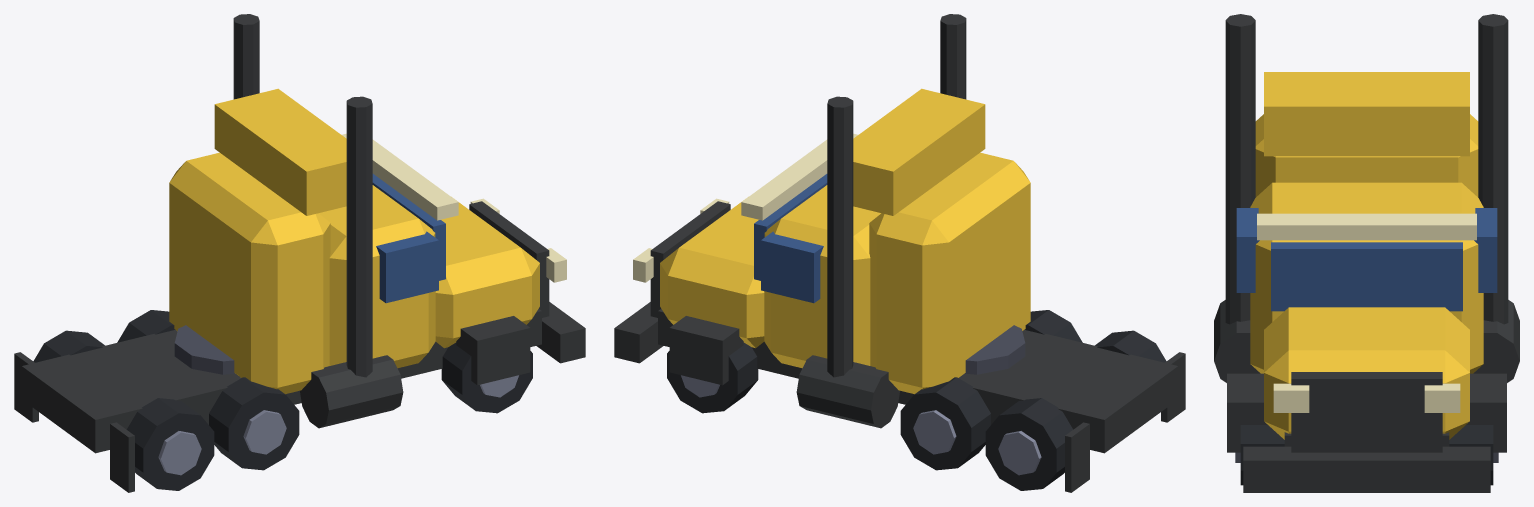
The model's file is semi.tractor-3.glb.
The picture shows the model from 3 angles, left to right: view 1: azimuth 30°, elevation 25°; view 2: azimuth 150°, elevation 25°; view 3: azimuth 270°, elevation 25°; orthographic projection. The views are drawn at different scales.
Visible parts, largest first — view 1: model; view 2: model; view 3: model.
Part boxes in pixels (bbox=[...]): model: bbox=[14, 14, 585, 492]; model: bbox=[614, 14, 1185, 492]; model: bbox=[1214, 14, 1519, 492].
Size of the model in its own units: 0.444 by 0.31 by 0.2228.
Materials: 1 (1 with a texture image).
